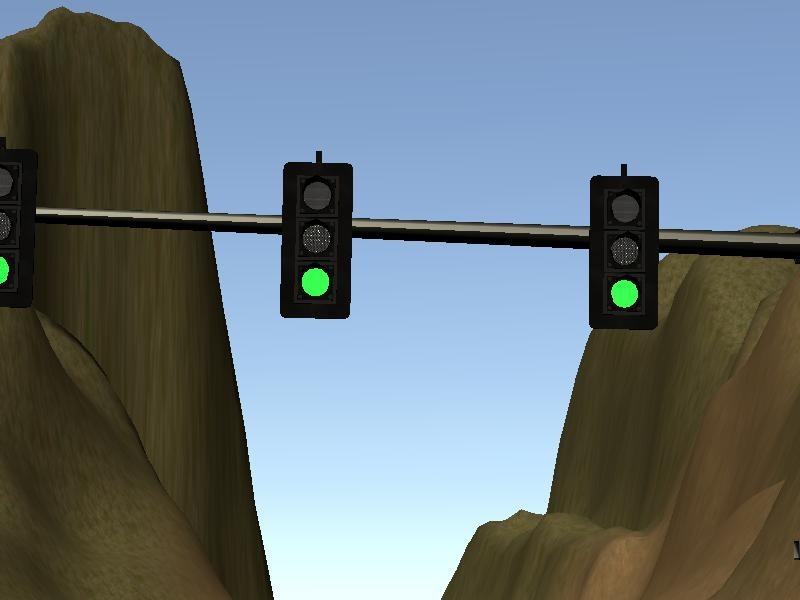green: (274, 143, 360, 334), (583, 155, 671, 334), (1, 140, 49, 311)
